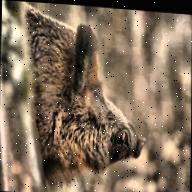boar: (8, 1, 150, 186)
